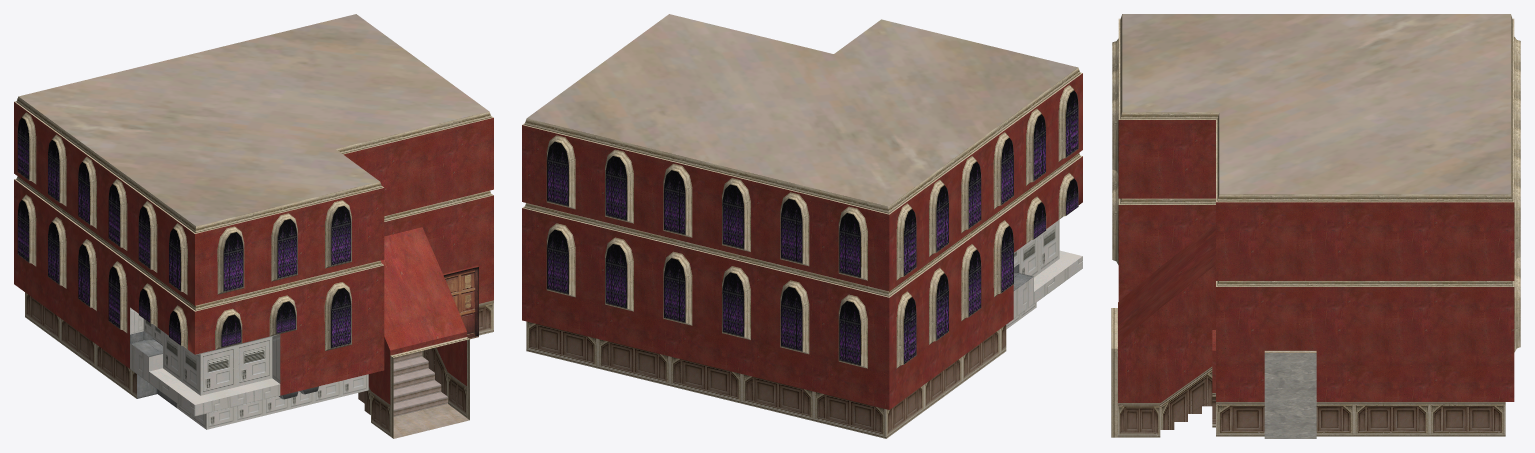
The model's file is ply_nboo_house_m_s02_fp1_r2_lobby_mesh__r2.fbx.
3 views of the same model, side by side, from view 1: azimuth 30°, elevation 25°; view 2: azimuth 150°, elevation 25°; view 3: azimuth 270°, elevation 25° (orthographic). The views are drawn at different scales.
Visible parts, largest first — view 1: mesh_node; view 2: mesh_node; view 3: mesh_node.
Boxes of the visible parts, box(x1,y1,x2,y2) form: mesh_node: box(14, 14, 493, 438); mesh_node: box(522, 14, 1082, 438); mesh_node: box(1111, 14, 1520, 438).
Bounding box in the file's own units: 12.85 × 8.9 × 11.8.
